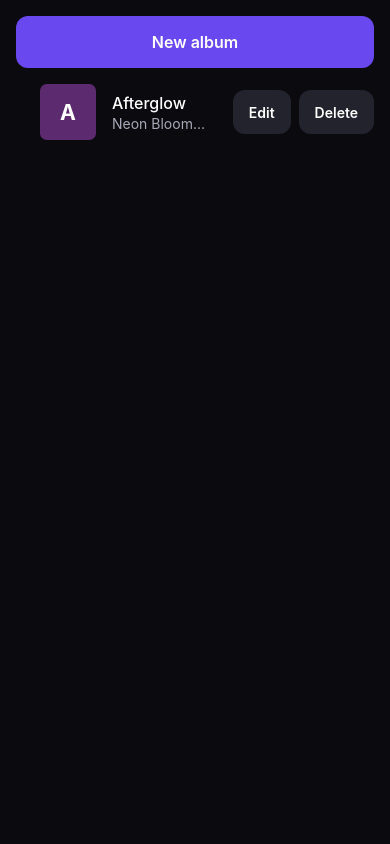
Scenario: ArtistAlbumsScreen › validates the album form client-side
Expected: the element with test id "artist-albums-list" is shown, [16,76,374,148]
Click the button with test id "new-album-button". click: {"x": 195, "y": 42}
box: [16,16,374,68]
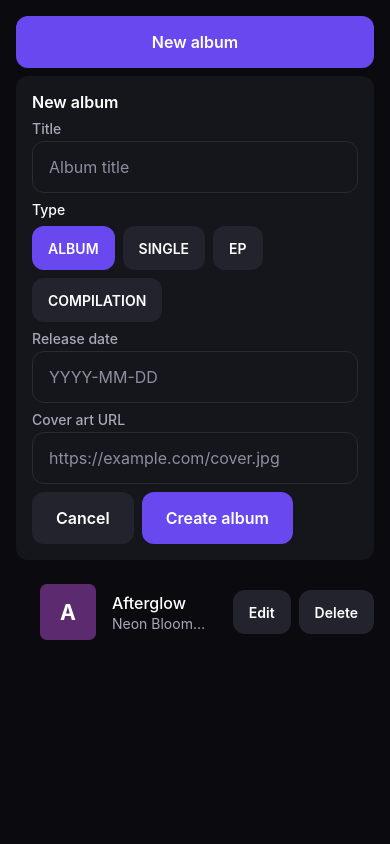
Type "not-a-date" into the field with test id "album-release-date". click: {"x": 195, "y": 377}
box: [49,359,341,395]
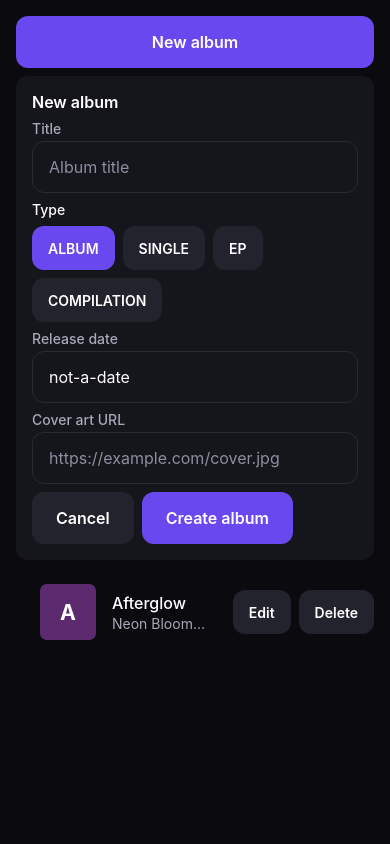
Click the button with test id "album-save". click: {"x": 217, "y": 518}
box: [142,492,293,544]
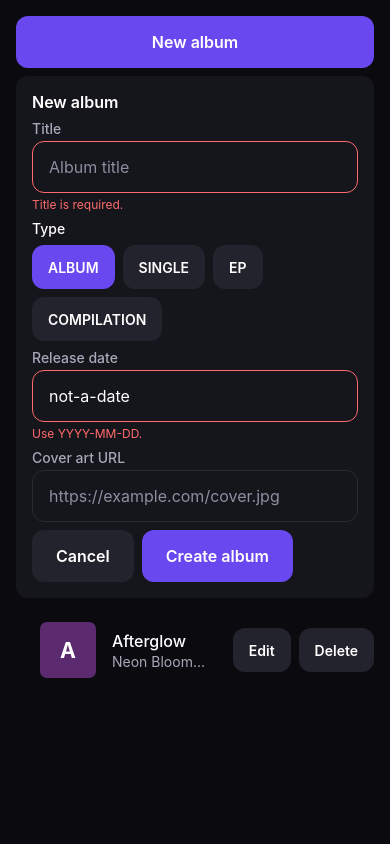
Result: the text "Title is required." is shown at [32,197,123,212]
Result: the text "Use YYYY-MM-DD." is shown at [32,426,142,441]
